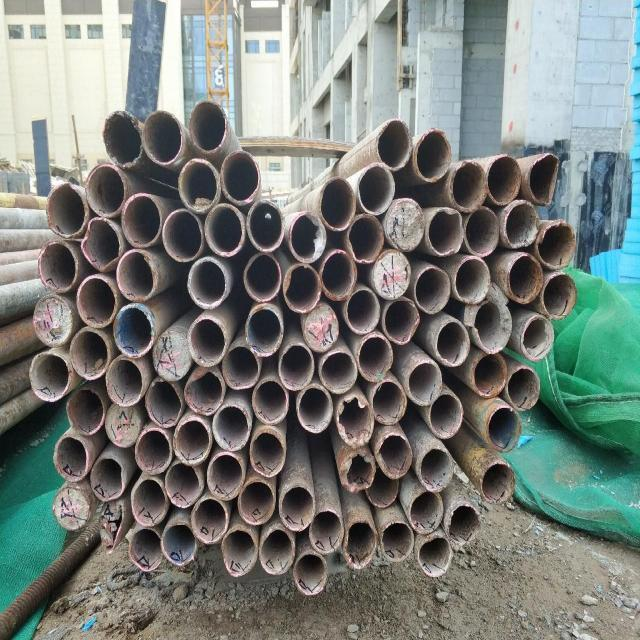pipe: (102, 109, 144, 168), (84, 162, 126, 218), (120, 192, 162, 248), (112, 302, 154, 358), (45, 182, 87, 237), (178, 158, 220, 212), (161, 208, 203, 262), (75, 274, 117, 328), (220, 150, 260, 206), (316, 176, 356, 232), (384, 196, 424, 252), (186, 256, 228, 309), (80, 216, 121, 270), (203, 202, 244, 256), (142, 110, 182, 164), (245, 198, 285, 252), (38, 239, 78, 293), (116, 248, 156, 302), (32, 294, 72, 348), (69, 326, 109, 380), (28, 351, 70, 402), (472, 300, 512, 353), (356, 162, 395, 216), (186, 314, 226, 366), (448, 159, 487, 212), (413, 127, 451, 181), (372, 248, 411, 300), (188, 99, 226, 152), (242, 252, 282, 302), (288, 210, 326, 262), (462, 204, 500, 256), (105, 356, 144, 406), (152, 331, 190, 382), (375, 118, 412, 170), (130, 475, 167, 527), (537, 220, 577, 268), (220, 341, 260, 389), (184, 368, 224, 416), (172, 418, 212, 466), (346, 212, 384, 262), (283, 262, 321, 312), (244, 306, 282, 356), (144, 378, 182, 428), (336, 396, 374, 446), (164, 458, 202, 508), (206, 450, 244, 500), (485, 154, 521, 206), (211, 403, 250, 451), (426, 207, 464, 256), (506, 252, 542, 303), (502, 200, 540, 248), (452, 256, 490, 304), (66, 387, 104, 435), (103, 400, 141, 448), (134, 426, 172, 474), (190, 496, 228, 544), (343, 517, 378, 569), (221, 526, 257, 576), (237, 478, 275, 525), (257, 527, 295, 574), (414, 265, 451, 313), (356, 334, 393, 382), (470, 350, 507, 398), (249, 428, 286, 476), (302, 303, 338, 352), (296, 384, 332, 433), (321, 250, 356, 300), (338, 448, 376, 494), (52, 484, 90, 530), (527, 151, 559, 205), (278, 342, 314, 390), (52, 434, 88, 482), (278, 483, 314, 531), (318, 351, 358, 394), (541, 272, 577, 319), (434, 319, 470, 366), (427, 391, 463, 438), (376, 432, 412, 479), (344, 288, 380, 334), (382, 298, 418, 344), (406, 360, 442, 406), (252, 378, 288, 424), (88, 455, 124, 501), (486, 404, 520, 452), (161, 521, 197, 566), (308, 508, 344, 553), (407, 489, 443, 534), (371, 379, 406, 424), (128, 526, 163, 571), (520, 316, 554, 362), (480, 461, 516, 504), (506, 366, 540, 410), (418, 446, 452, 490), (293, 551, 327, 595), (416, 534, 451, 576), (364, 464, 398, 507), (380, 520, 414, 562), (447, 503, 479, 546), (98, 502, 124, 554)
